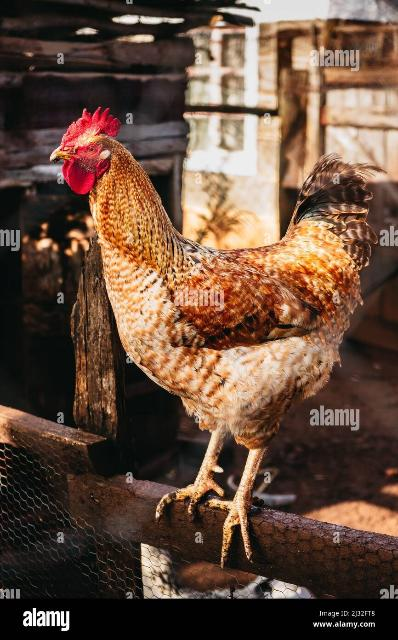Chicken: (49, 105, 371, 565)
